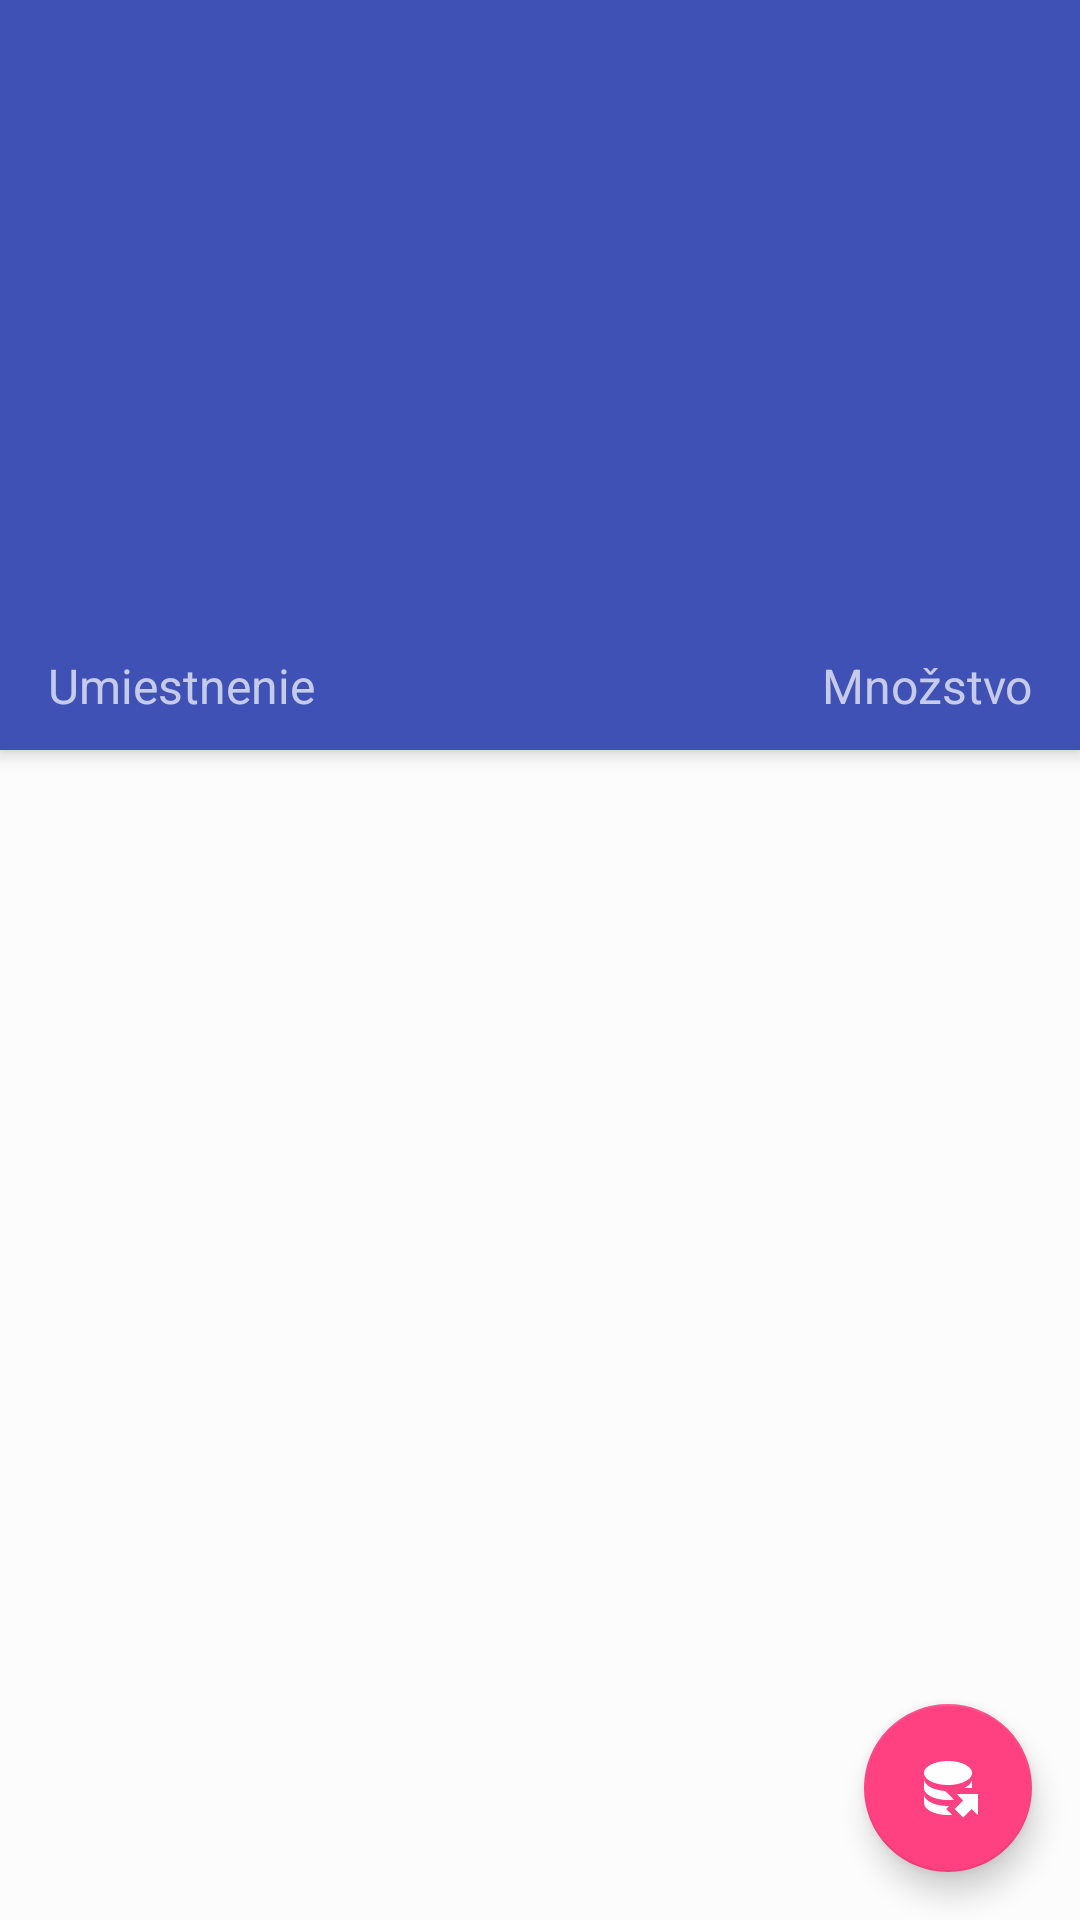

Screen size 1080 x 1920. Icon name, then its box in pixels as (x1, y1, x2, y2):
export: (864, 1704, 1032, 1872)
